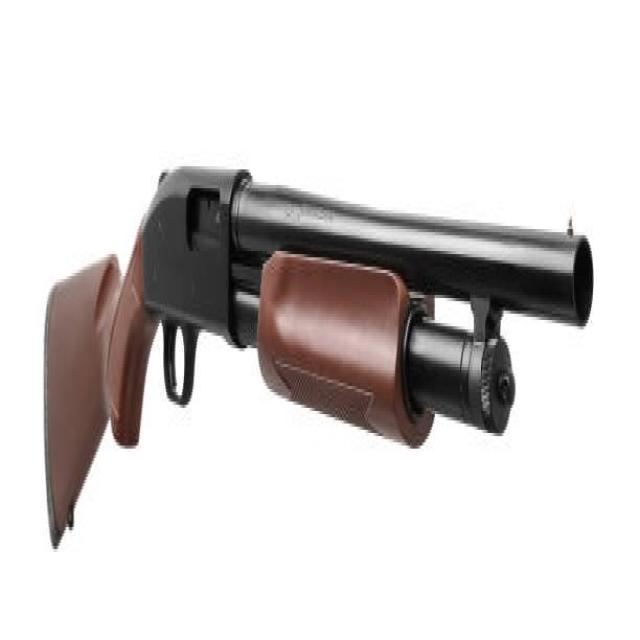rifle: (45, 150, 603, 575)
